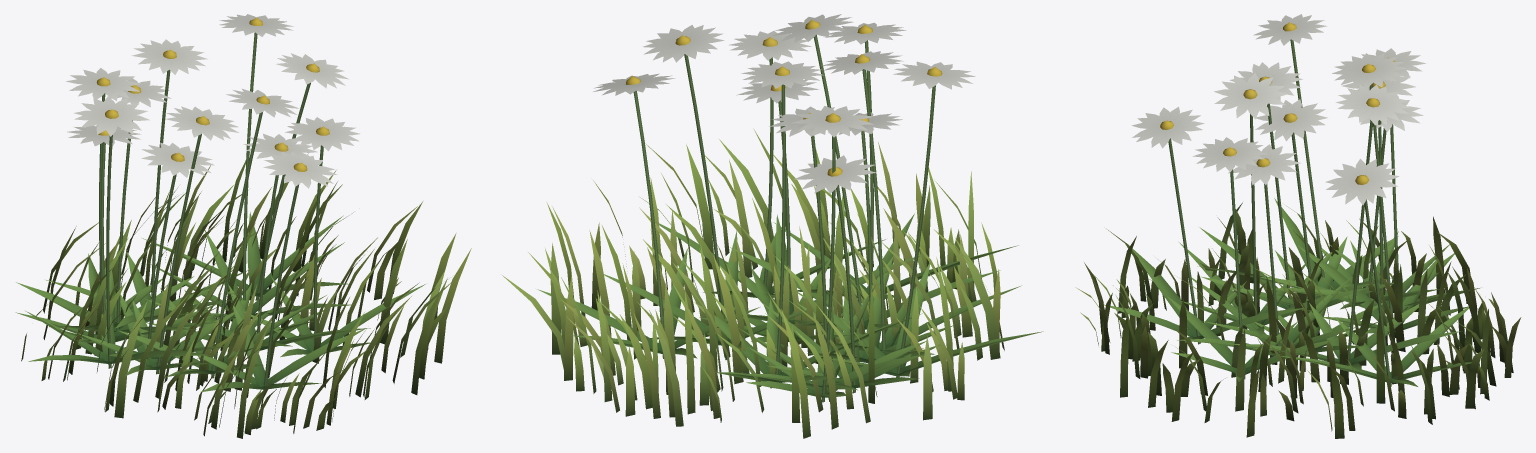
Rendered from eco_flower_daisy_clump_LOD0.glb.
3 views of the same model, side by side, from view 1: azimuth 30°, elevation 25°; view 2: azimuth 150°, elevation 25°; view 3: azimuth 270°, elevation 25° (orthographic). The views are drawn at different scales.
Visible parts, largest first — view 1: eco_flower_daisy_clump_LOD0; view 2: eco_flower_daisy_clump_LOD0; view 3: eco_flower_daisy_clump_LOD0.
Part boxes in pixels (box(x1,y1,x2,y2)): eco_flower_daisy_clump_LOD0: box(15, 14, 471, 438); eco_flower_daisy_clump_LOD0: box(502, 14, 1043, 438); eco_flower_daisy_clump_LOD0: box(1075, 14, 1521, 438).
Size of the model in its own units: 0.5971 by 0.39 by 0.5537.
